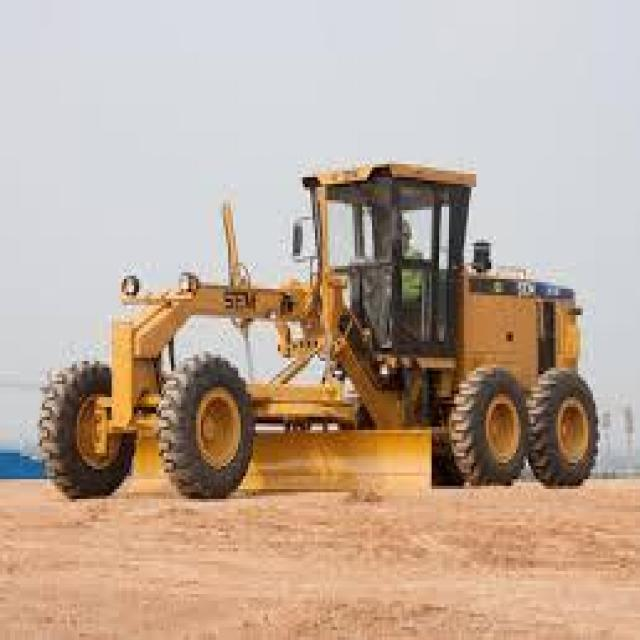Grader: (32, 148, 596, 512)
